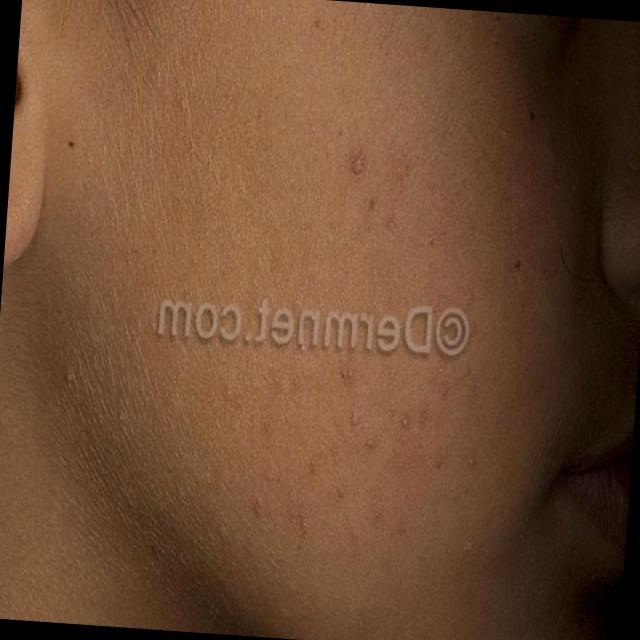Eczema: (189, 132, 508, 556)
